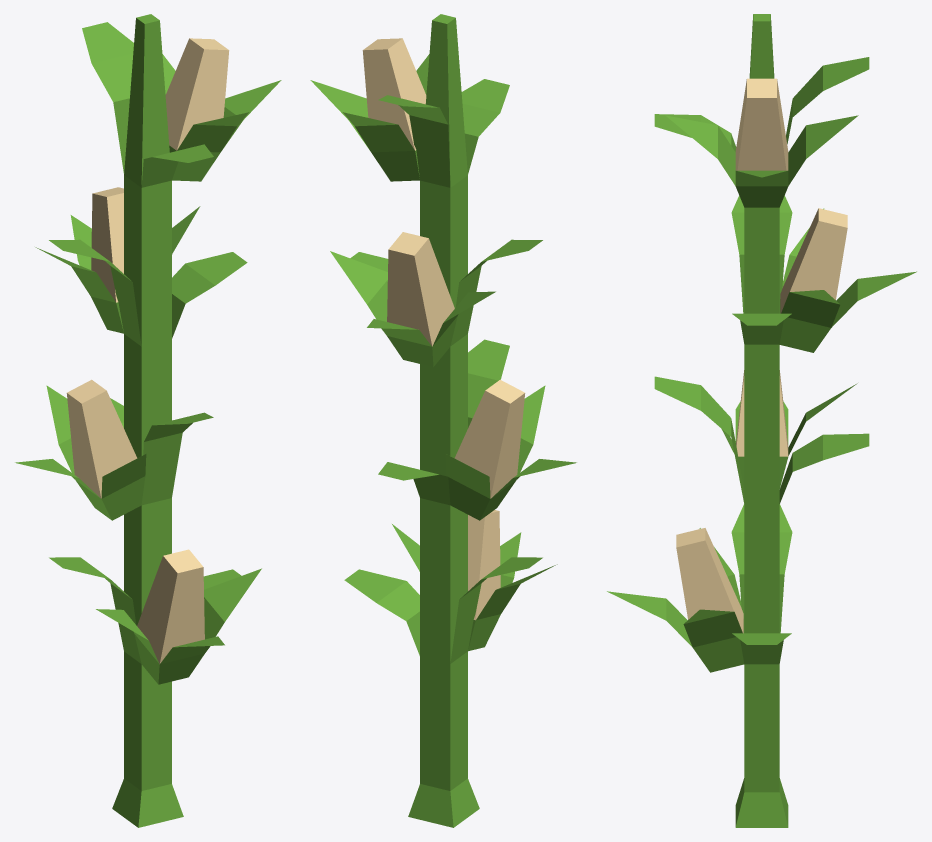
Rendered from crops_cornStageD.glb.
The picture shows the model from 3 angles, left to right: view 1: azimuth 30°, elevation 25°; view 2: azimuth 150°, elevation 25°; view 3: azimuth 270°, elevation 25°; orthographic projection.
Visible parts, largest first — view 1: crops_cornStageD, corn (×4); view 2: crops_cornStageD, corn (×4); view 3: crops_cornStageD, corn (×4).
Part boxes in pixels (bbox=[...]): crops_cornStageD: bbox=[49, 14, 247, 827]; corn (×4): bbox=[15, 38, 281, 684]; crops_cornStageD: bbox=[344, 14, 542, 827]; corn (×4): bbox=[310, 38, 576, 651]; crops_cornStageD: bbox=[654, 14, 869, 827]; corn (×4): bbox=[607, 78, 916, 672].
Size of the model in its own units: 0.4416 by 1.25 by 0.4416.
